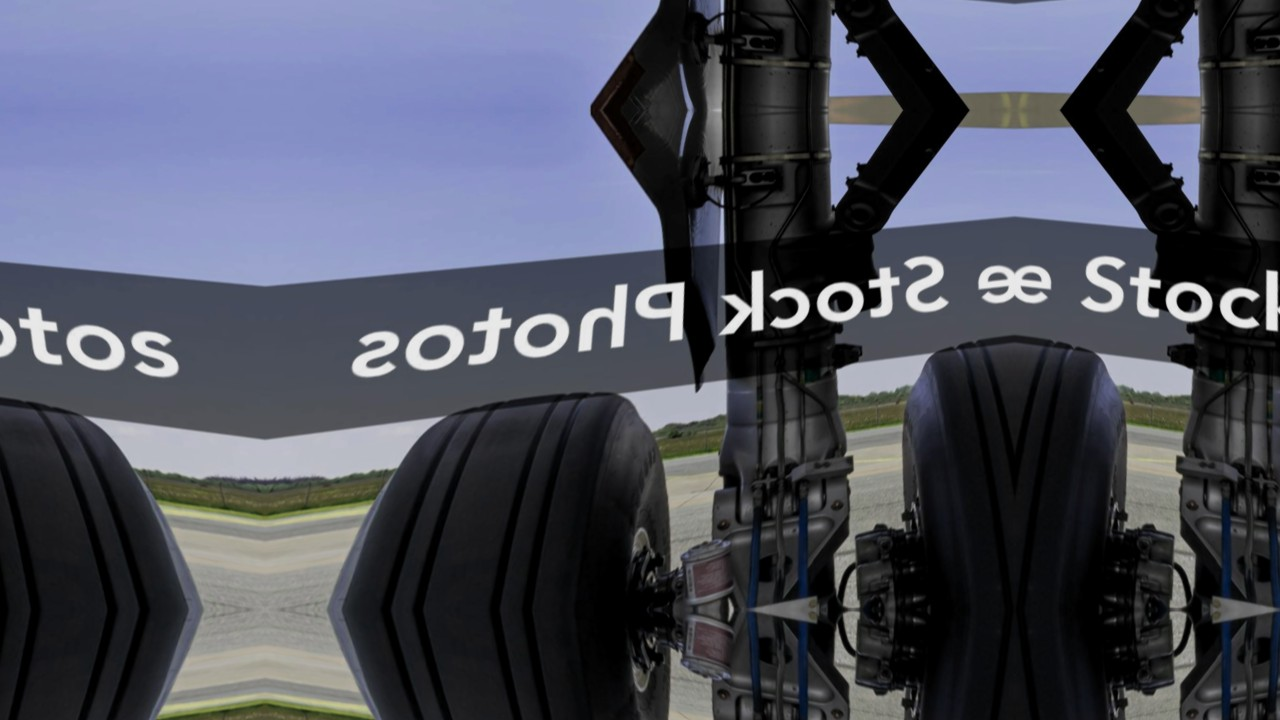wheel: (265, 378, 710, 610), (0, 378, 265, 610), (265, 610, 710, 720), (876, 322, 1015, 610), (1015, 322, 1154, 610), (0, 610, 265, 720), (876, 610, 1015, 720), (1015, 610, 1154, 720)
